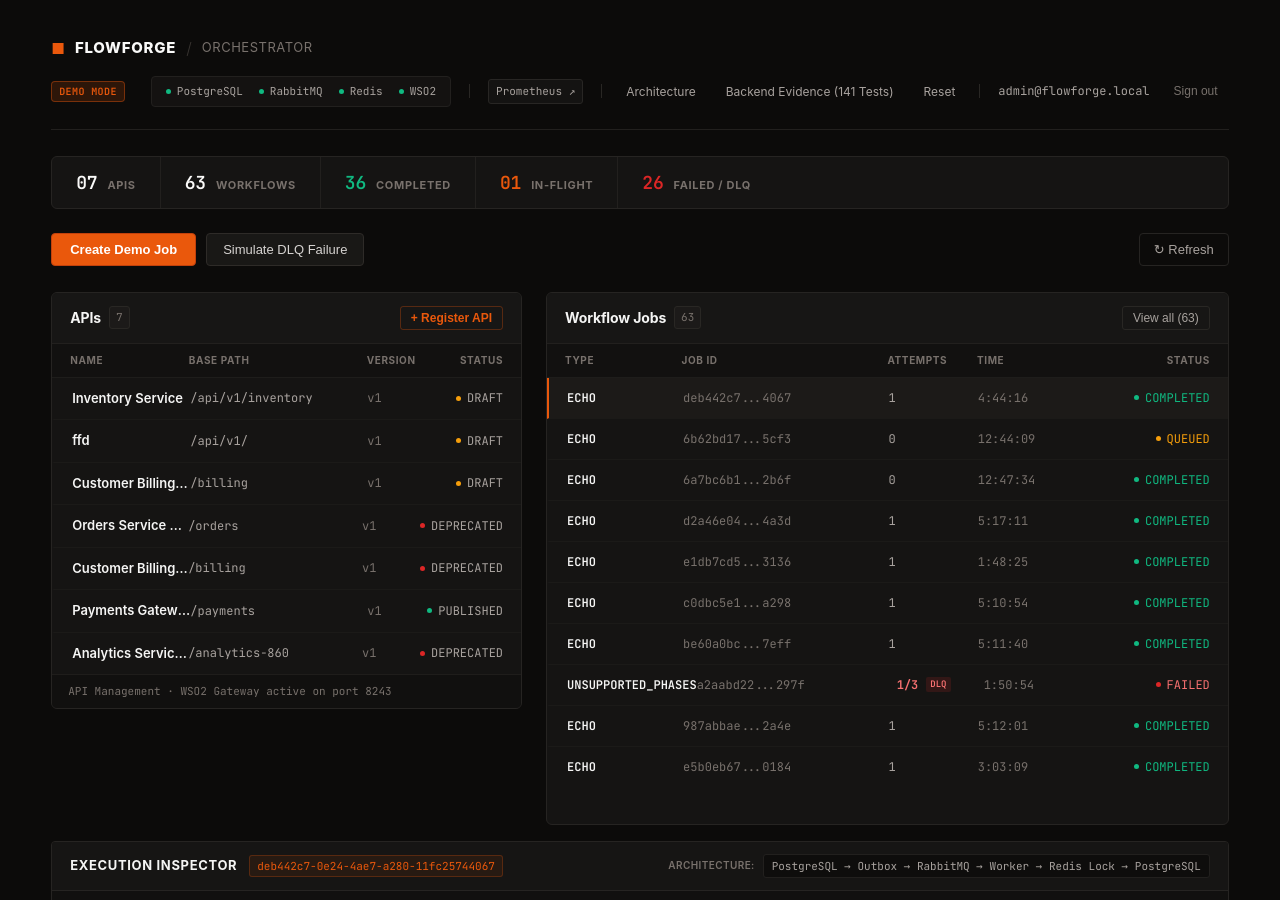
Scenario: FlowForge Original UI & Mock Service Testing › 7. Opens the Gateway API Details modal when clicking an API row
This screenshot has width=1280, height=900.
Click the text "Inventory Service" at point(131, 398), box top-left (72, 388), bottom-right (190, 408)
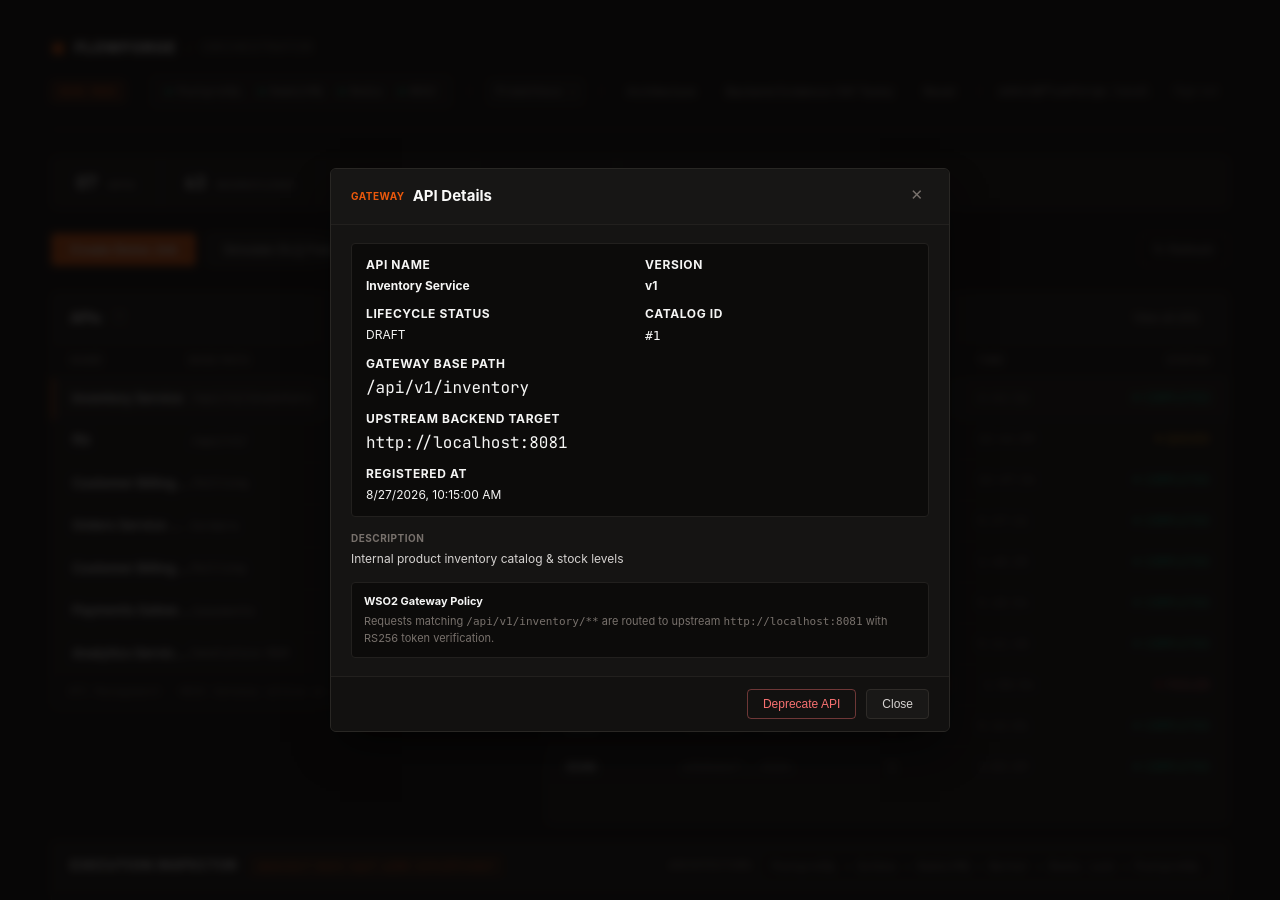
expect the heading "API Details" is shown: met, box top-left (413, 185), bottom-right (492, 208)
expect the text "WSO2 Gateway Policy" is shown: met, box top-left (364, 594), bottom-right (483, 608)
